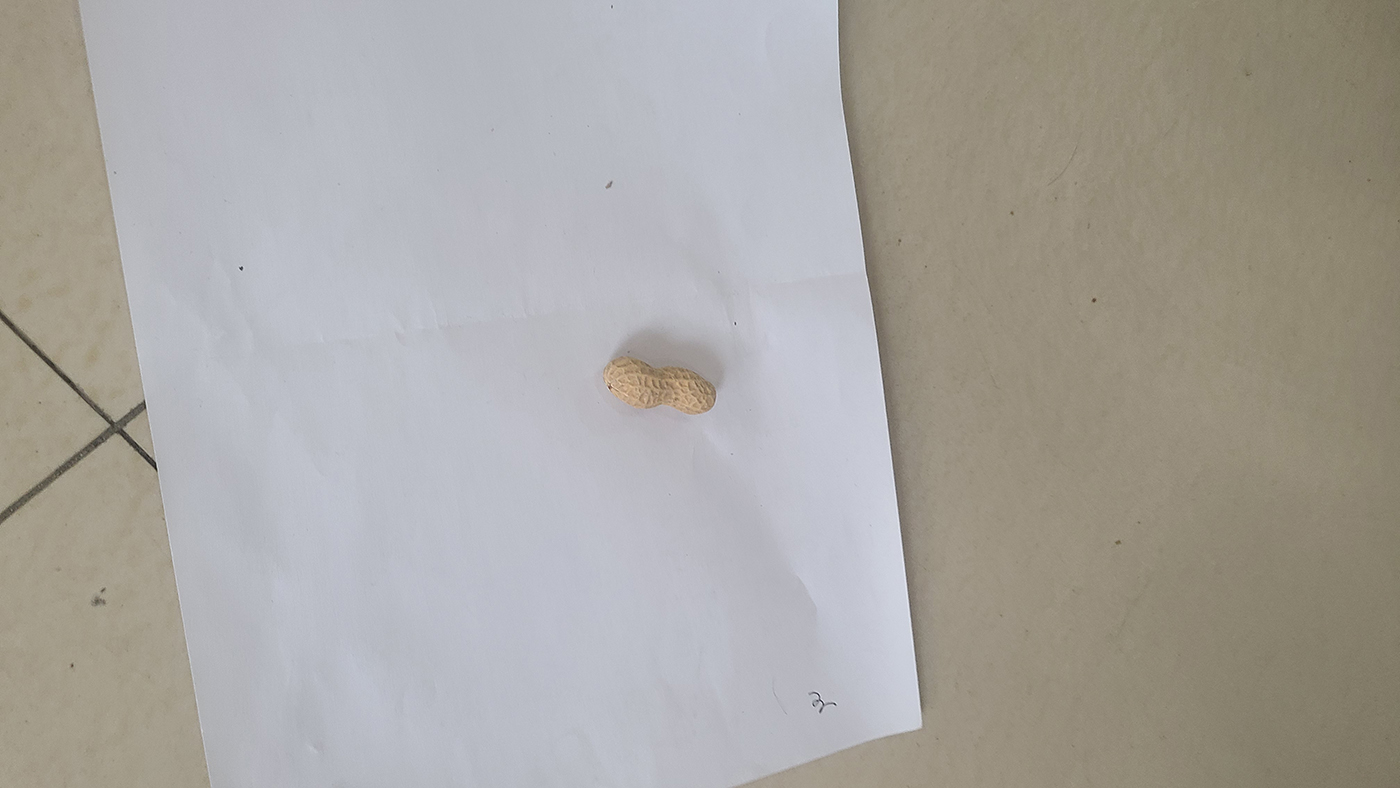h: (603, 356, 717, 414)
